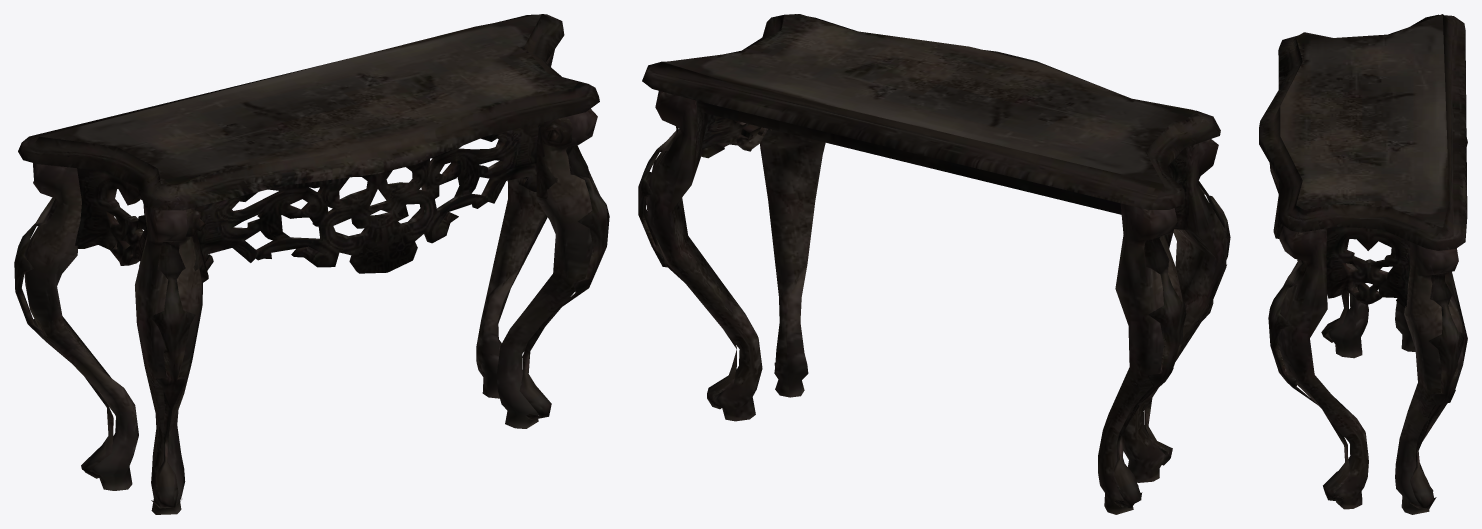
Rendered from ClassicConsole_01.glb.
3 views of the same model, side by side, from view 1: azimuth 30°, elevation 25°; view 2: azimuth 150°, elevation 25°; view 3: azimuth 270°, elevation 25° (orthographic). The views are drawn at different scales.
Visible parts, largest first — view 1: ClassicConsole_01; view 2: ClassicConsole_01; view 3: ClassicConsole_01.
Boxes of the visible parts, x1,y1,x2,y2 form: ClassicConsole_01: [14, 14, 609, 514]; ClassicConsole_01: [638, 14, 1230, 514]; ClassicConsole_01: [1259, 14, 1467, 514].
Bounding box in the file's own units: 1.54 × 0.949 × 0.5855.
Materials: 1 (1 with a texture image).
